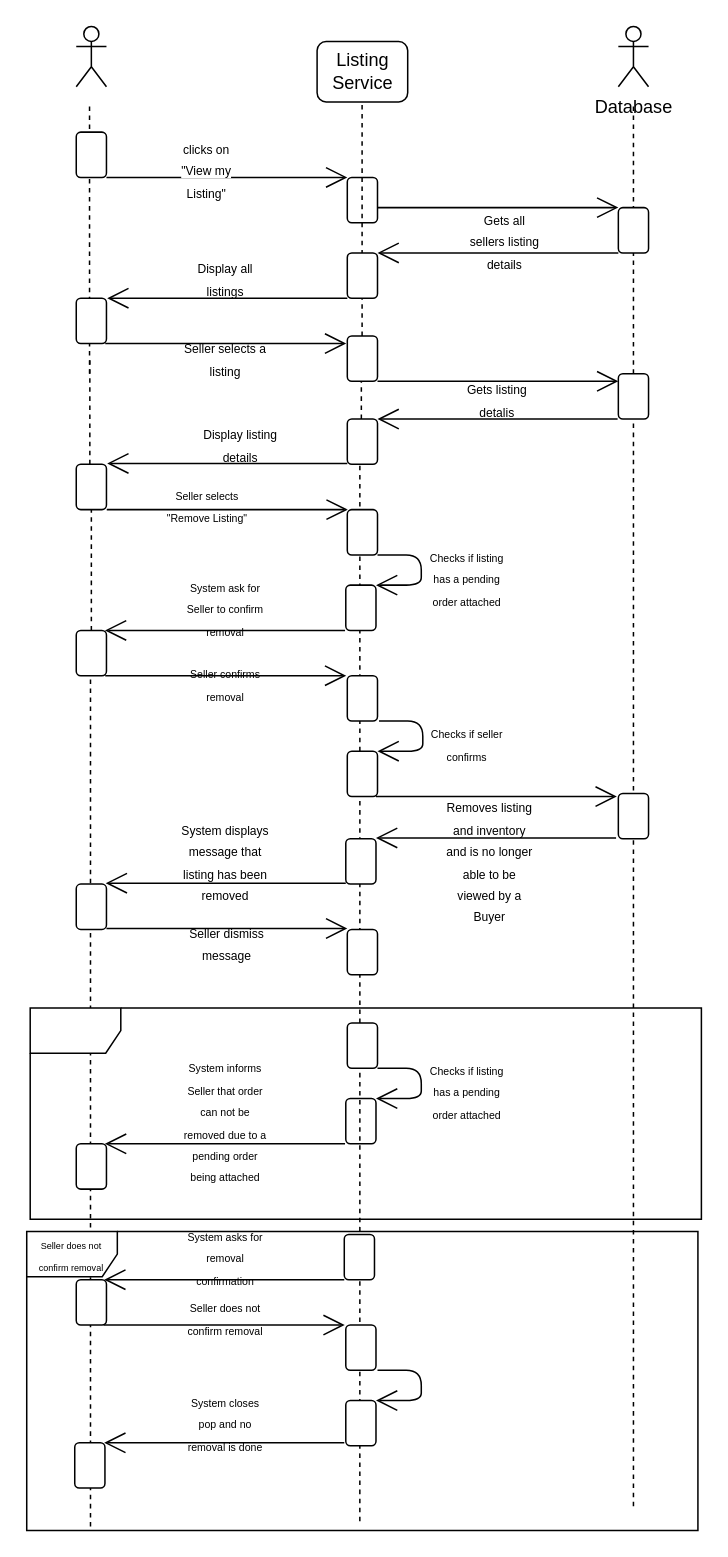
Some shapes in this 728 by 1557 pixel diagram are drawn without their labels. The shapes that lost their labels are listed below. From the top down, each one's centre as x and y in pixels, then its label:
At pixel 90 56: "Seller".
At pixel 365 1112: "Listing has a pending order attached".
